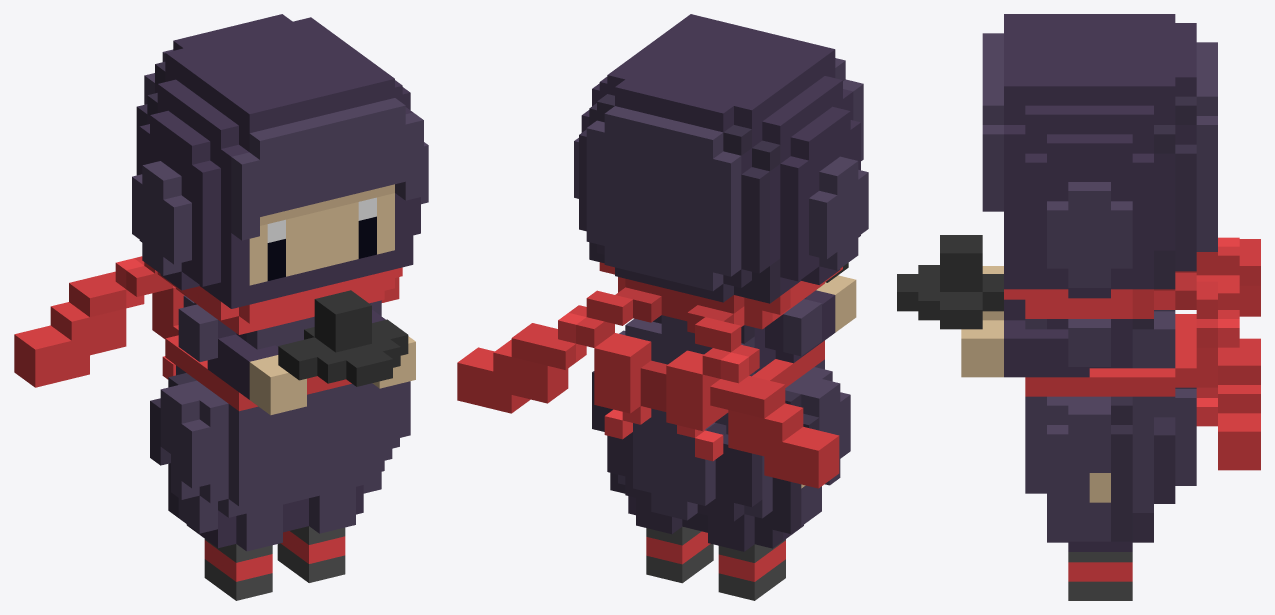
The model's file is ninja.obj.
The picture shows the model from 3 angles, left to right: view 1: azimuth 30°, elevation 25°; view 2: azimuth 150°, elevation 25°; view 3: azimuth 270°, elevation 25°; orthographic projection. The views are drawn at different scales.
Size of the model in its own units: 2 by 2.7 by 1.7.
1 material, 1 textured.
